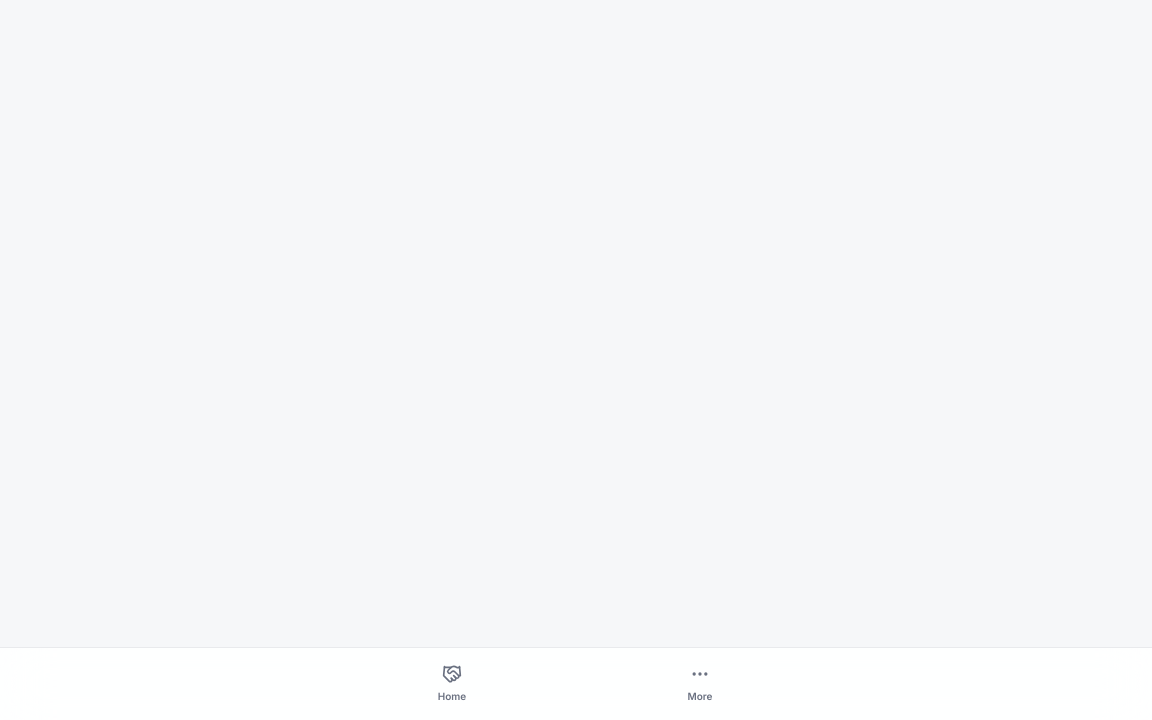
it: BottomNav — More sheet interaction contents › recruiter setup: More sheet has ONLY Recruiter Command Center + Sign Out
The image size is (1152, 720).
Click the button labelled "More": (700, 684) [668, 656, 732, 712]
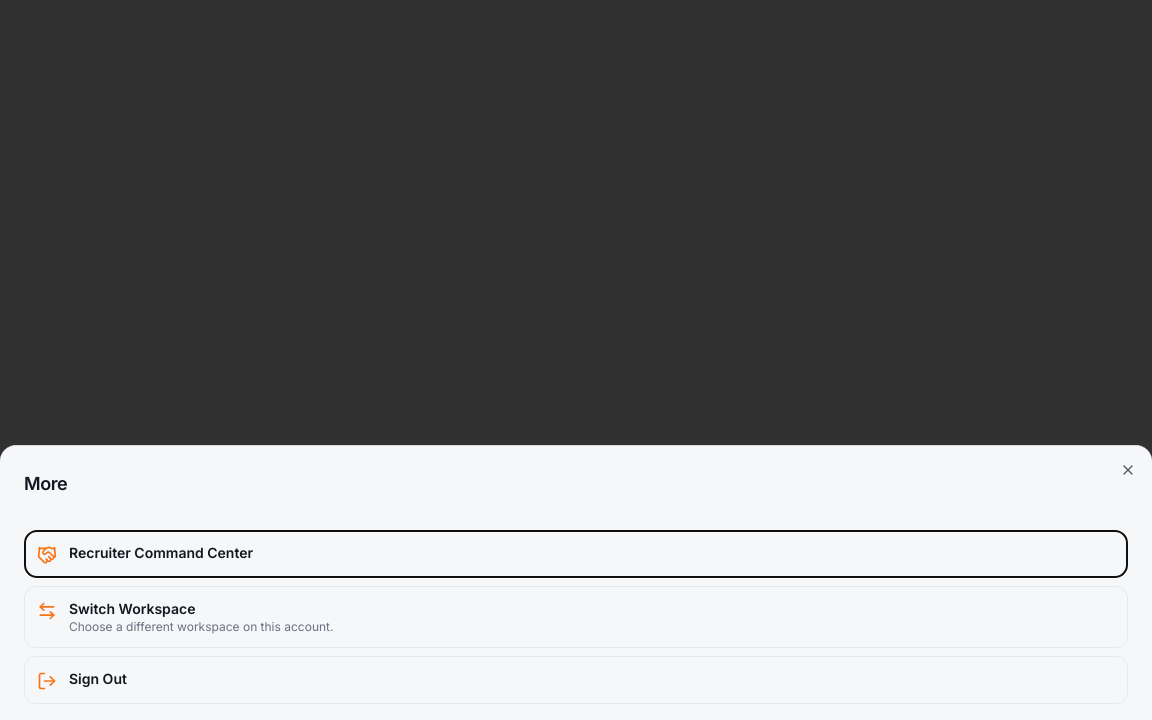
Expected: the text "Recruiter Command Center" is shown, [69, 542, 253, 562]
Expected: the text "Sign Out" is shown, [69, 669, 127, 689]
